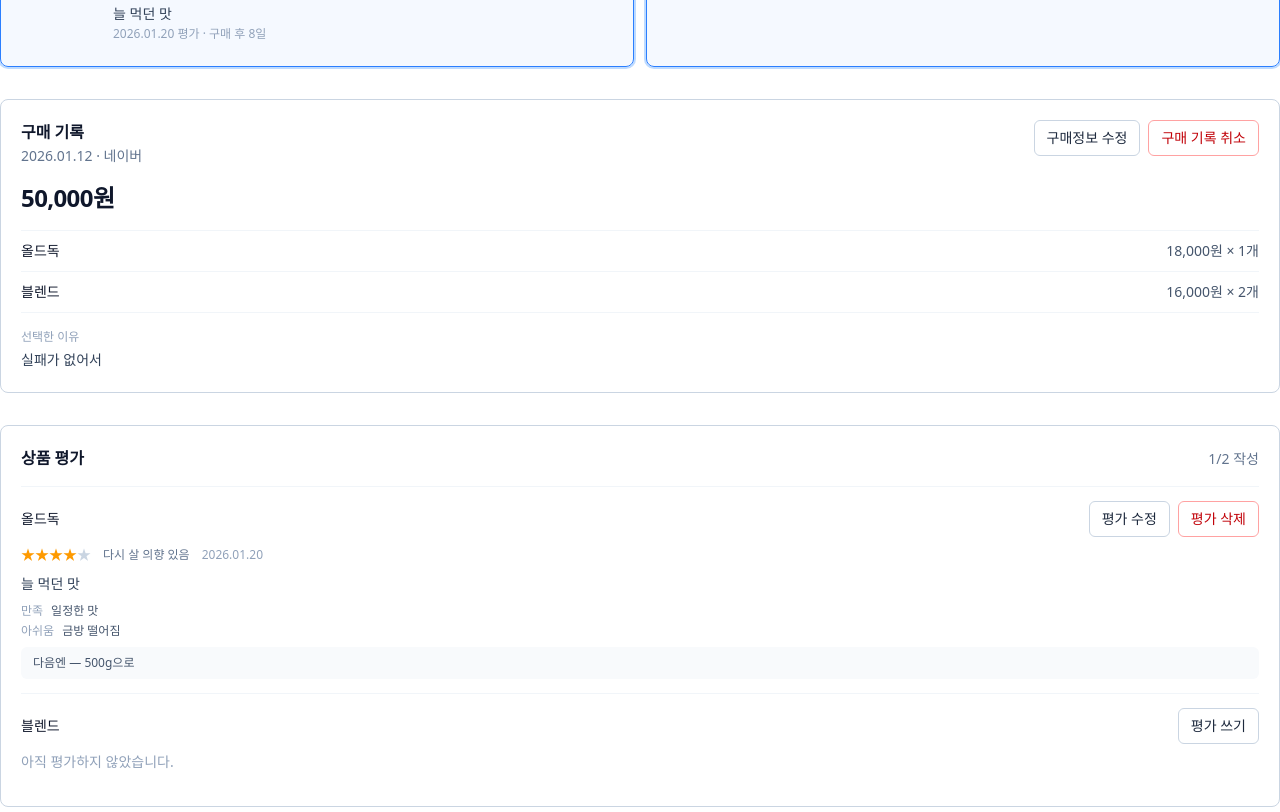
Test: 블록 44 — 평가 쓰기 › 고른 별점의 뜻을 글자로도 보여준다
The width and height of the screenshot is (1280, 812).
(page scrolled)
Click the button "평가 쓰기": point(1218, 726) [1178,708,1259,744]
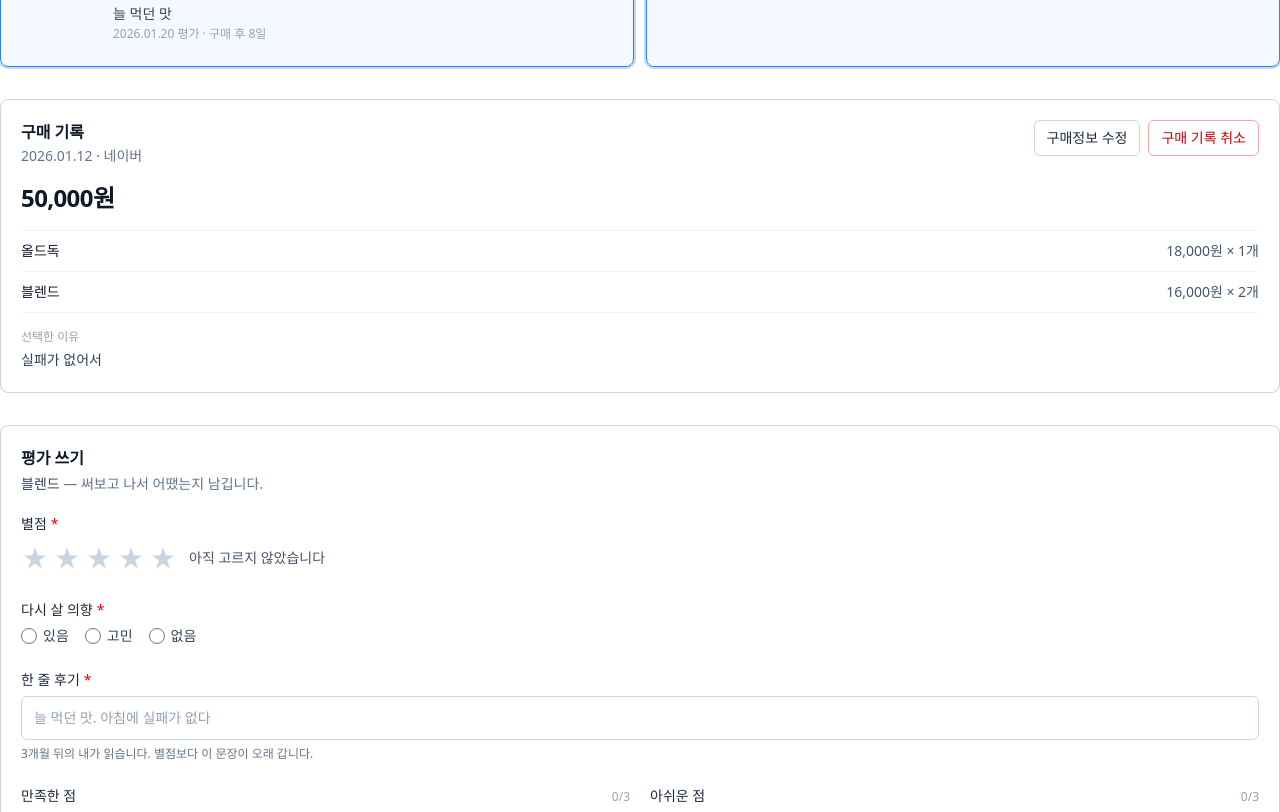
Check: the text "아직 고르지 않았습니다" is shown, box [189,548,325,568]
Click the radio button named "5점": point(163, 558) [149,540,177,576]
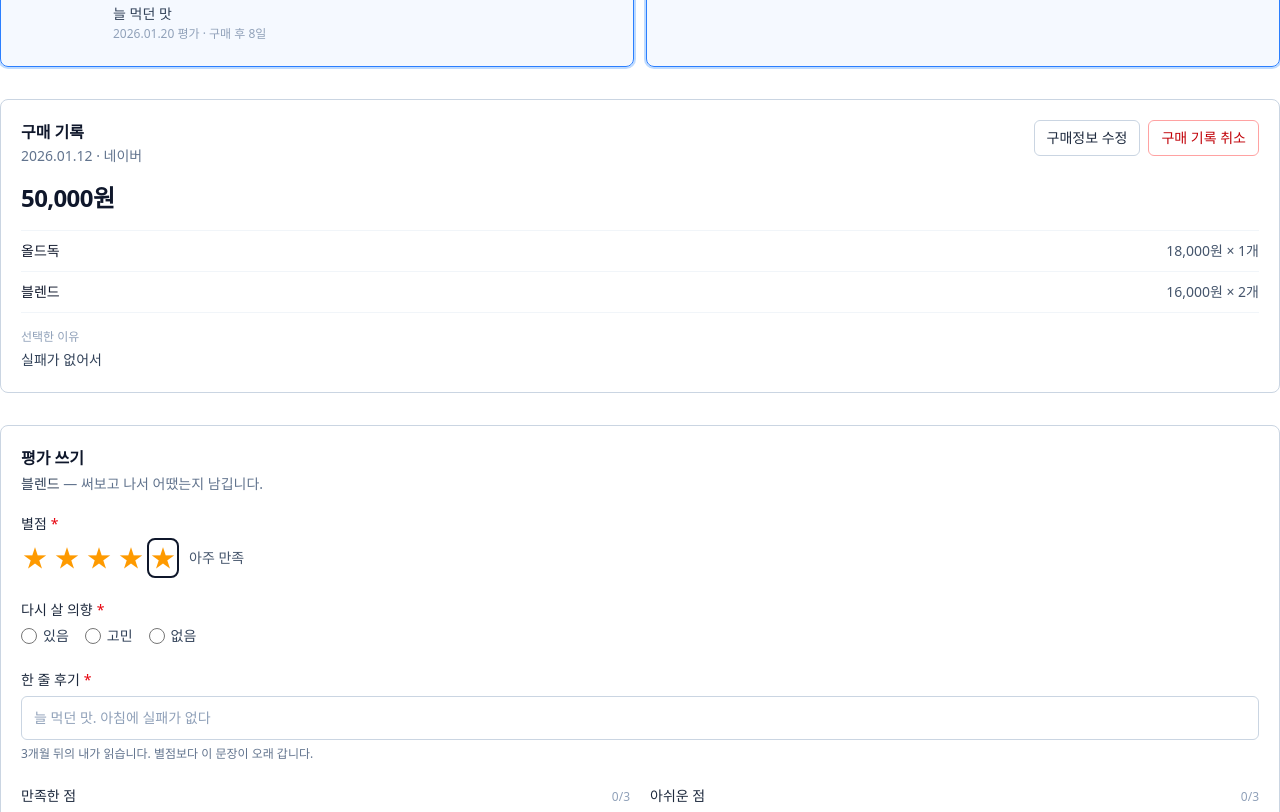
Check: the text "아주 만족" is shown, box [189,548,244,568]
